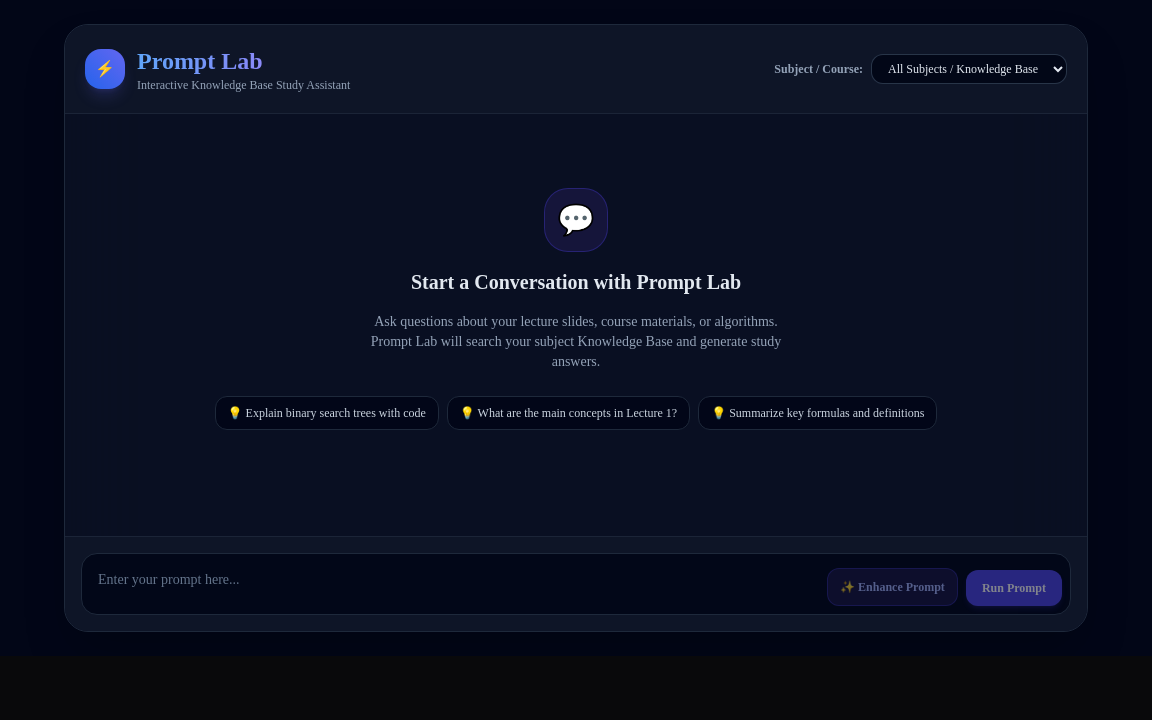
Scenario: PromptLab UI Tests › submits the form with selected courseId and displays the AI synthesis successfully
(page scrolled)
Select "CS101" in the dropdown labelled "Subject / Course:" at {"x": 969, "y": 69}, box left=871, top=54, right=1067, bottom=84
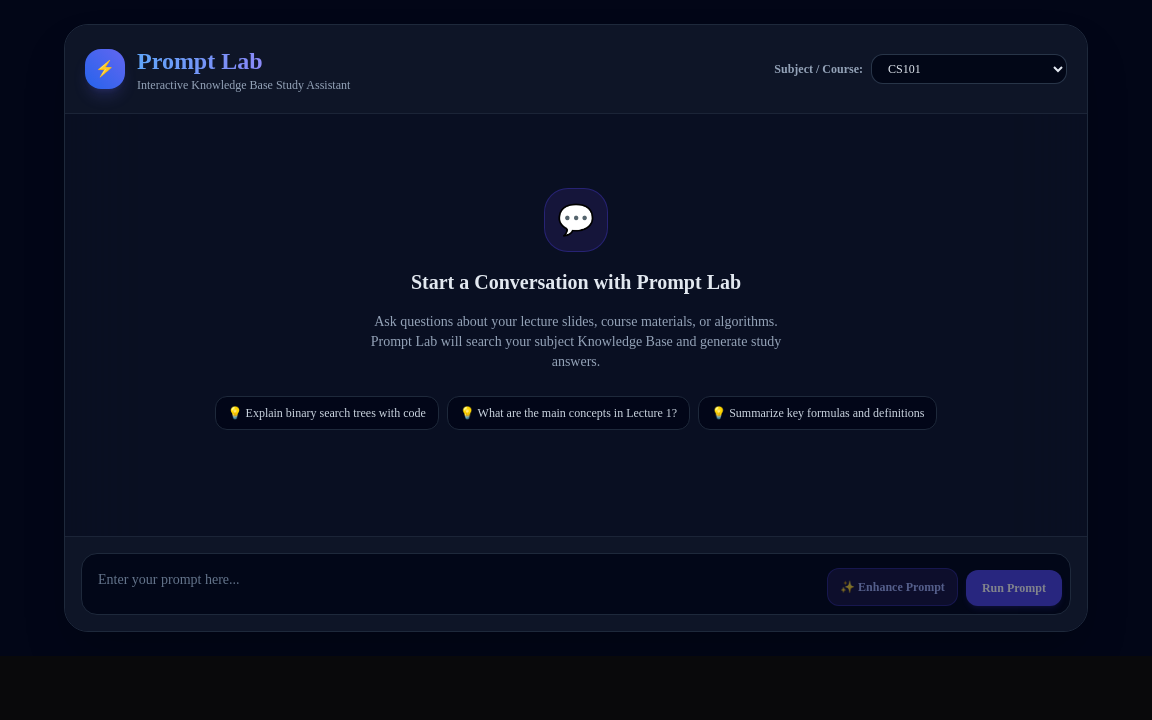
Type "What is a graph?" into the text box with placeholder "Enter your prompt here..." at {"x": 455, "y": 584}, box left=90, top=562, right=819, bottom=606
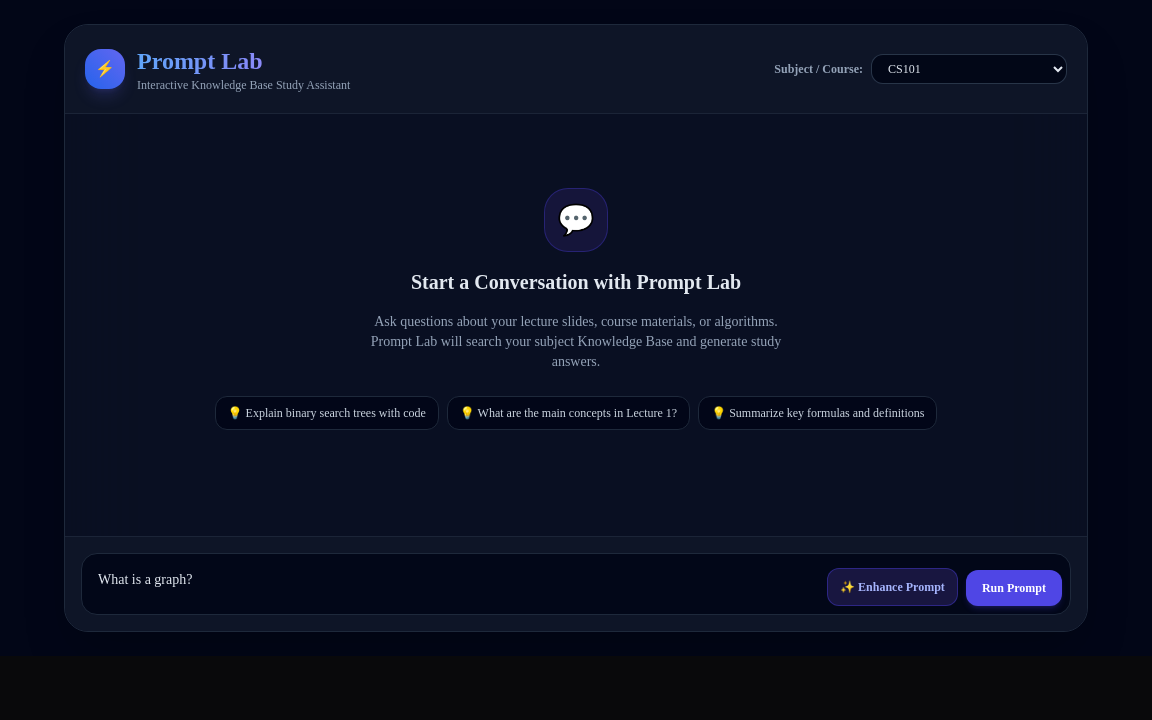
Result: the button "Run Prompt" is enabled
Click the button "Run Prompt" at {"x": 1014, "y": 588}, box left=966, top=570, right=1062, bottom=606
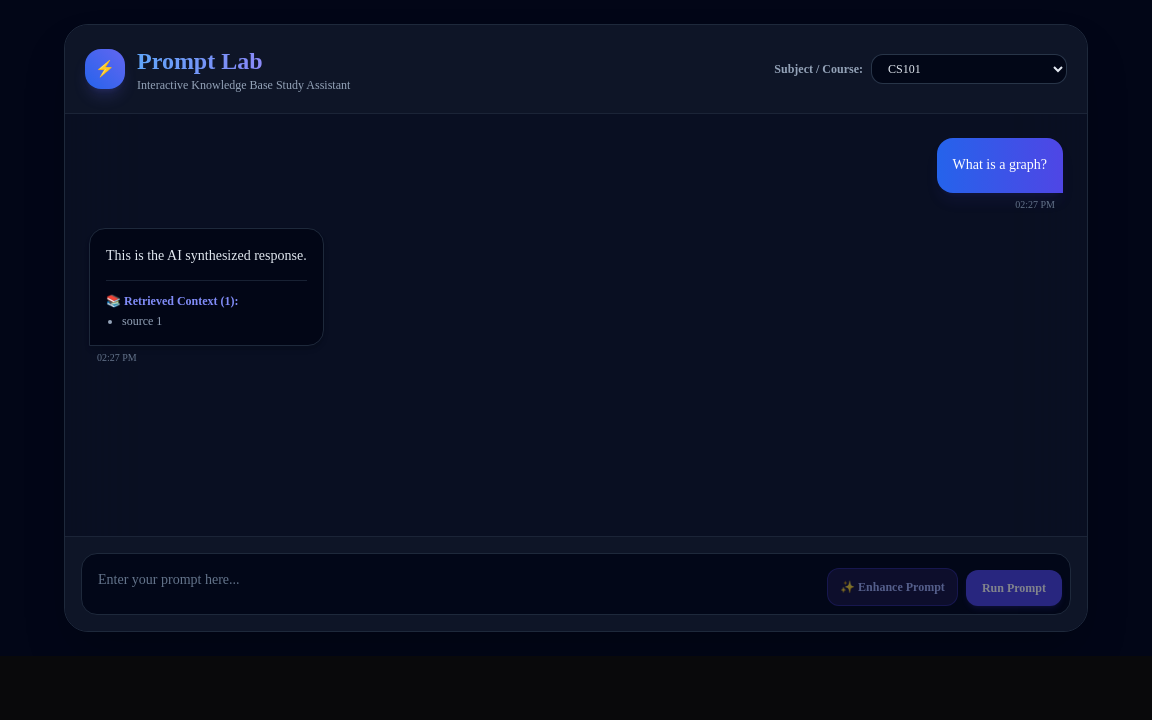
Result: the text "This is the AI synthesized response." is shown at left=106, top=245, right=307, bottom=268
